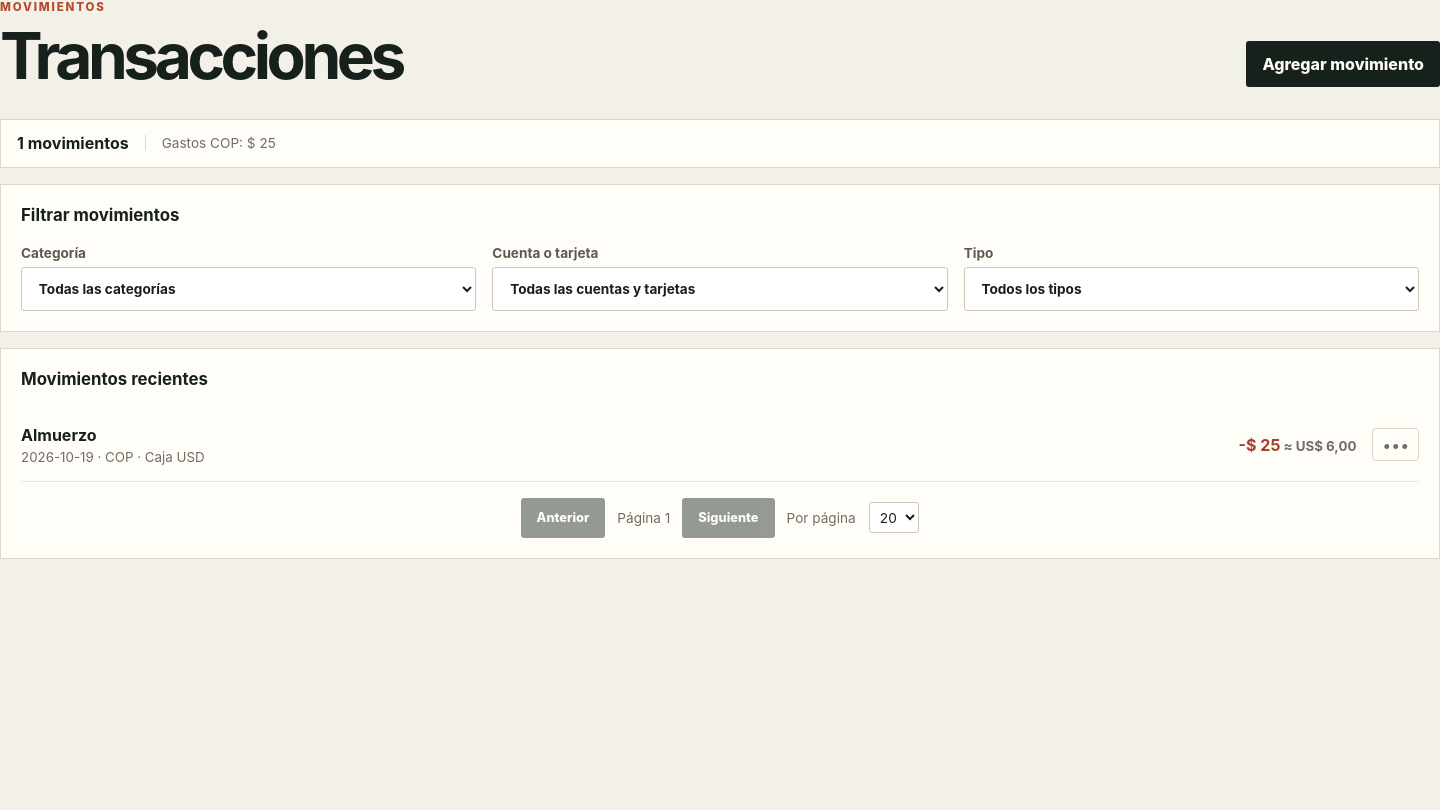
transaction details › shows the category, account, original amount, and notes of an expense
Expected: the text "Almuerzo" is shown, [21,425,96,445]
Click the heading named "Acciones" at [1396, 445], box [1372,428,1419,461]
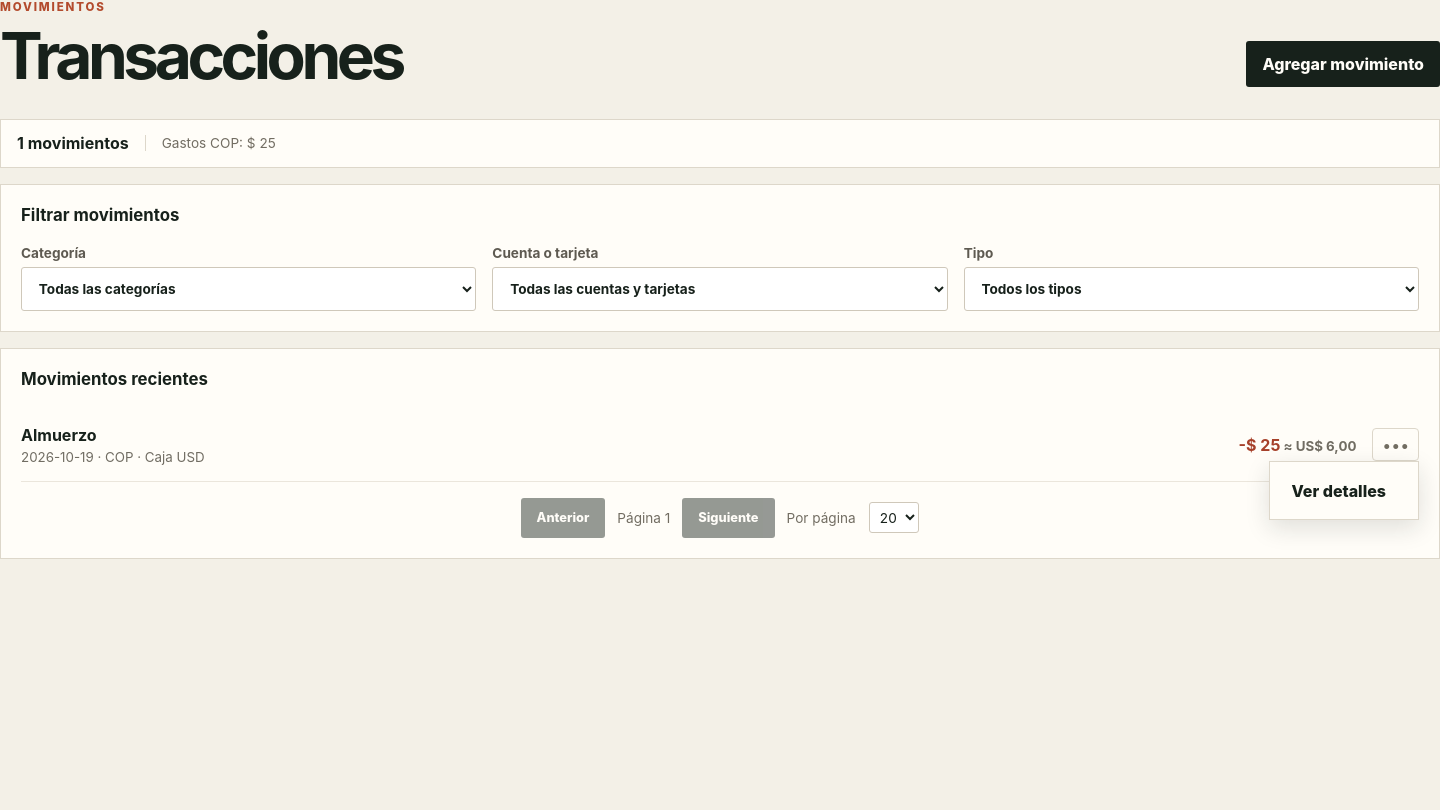
Click the button "Ver detalles" at [1344, 491], box [1276,468,1412,513]
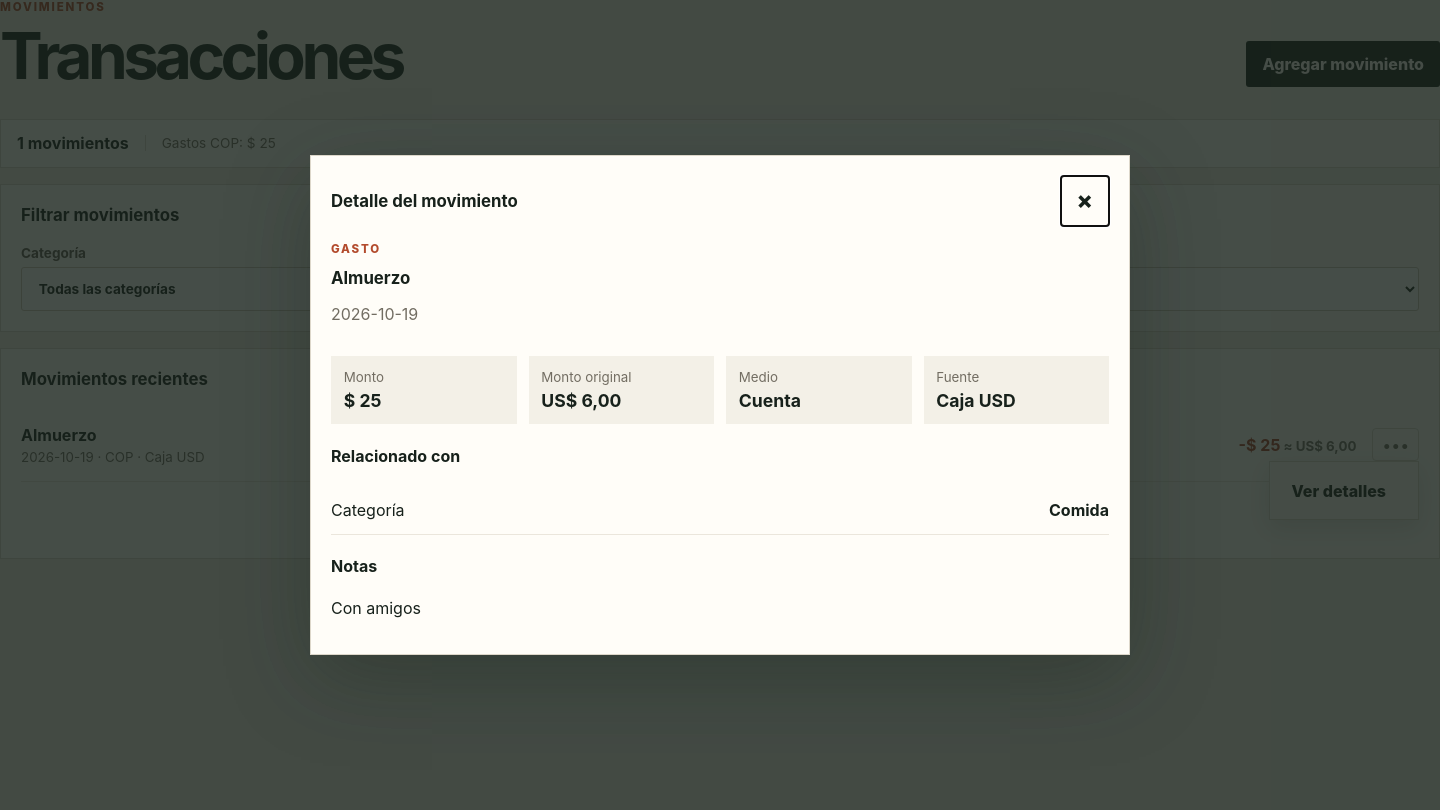
Expected: the dialog shows "Detalle del movimiento", [331,191,518,211]
Expected: the dialog shows "Comida", [1049,500,1109,520]
Expected: the dialog shows "Caja USD", [936,390,1016,412]
